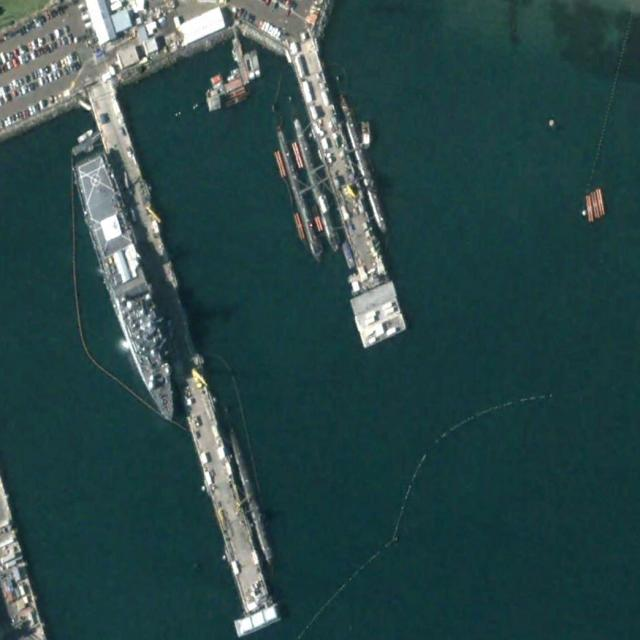Landing: (70, 147, 191, 432)
Submarine: (333, 88, 394, 239), (270, 119, 330, 271), (288, 113, 345, 257), (224, 422, 278, 566)
